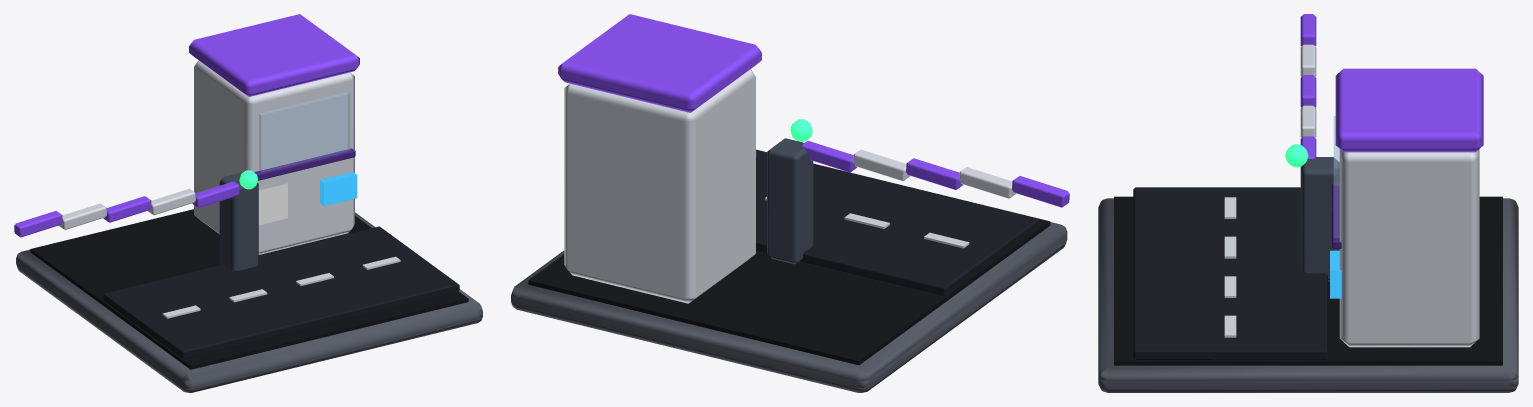
File: apigw.glb
3 renders of one model, left to right at view 1: azimuth 30°, elevation 25°; view 2: azimuth 150°, elevation 25°; view 3: azimuth 270°, elevation 25°, orthographic. The views are drawn at different scales.
Parts seen in each view (by area): view 1: body.bezel, body.white, body.rubber, body.concrete, body.accent, body.glass, body.steel, body.badge, body.screen, body.accent_dark; view 2: body.white, body.rubber, body.bezel, body.concrete, body.accent, body.steel; view 3: body.bezel, body.white, body.concrete, body.accent, body.rubber, body.steel, body.glass, body.screen, body.accent_dark, body.led.
Boxes of the visible parts, x1,y1,x2,y2 form: body.bezel: [103, 226, 459, 359]; body.white: [59, 60, 400, 318]; body.rubber: [30, 209, 468, 369]; body.concrete: [16, 212, 482, 392]; body.accent: [14, 14, 359, 237]; body.glass: [259, 92, 350, 172]; body.steel: [219, 172, 258, 270]; body.badge: [258, 183, 287, 225]; body.screen: [320, 171, 357, 206]; body.accent_dark: [254, 148, 355, 180]; body.white: [564, 69, 1016, 303]; body.rubber: [528, 218, 1050, 365]; body.bezel: [756, 149, 1039, 296]; body.concrete: [511, 222, 1067, 392]; body.accent: [558, 14, 1069, 207]; body.steel: [767, 138, 813, 264]; body.bezel: [1133, 187, 1327, 360]; body.white: [1224, 44, 1479, 347]; body.concrete: [1098, 198, 1518, 392]; body.accent: [1300, 14, 1483, 158]; body.rubber: [1114, 196, 1502, 365]; body.steel: [1300, 157, 1339, 281]; body.glass: [1333, 116, 1339, 237]; body.screen: [1330, 250, 1341, 298]; body.accent_dark: [1332, 183, 1341, 249]; body.led: [1285, 144, 1308, 167].
Bounding box in the file's own units: 1.38 × 0.702 × 1.08.
